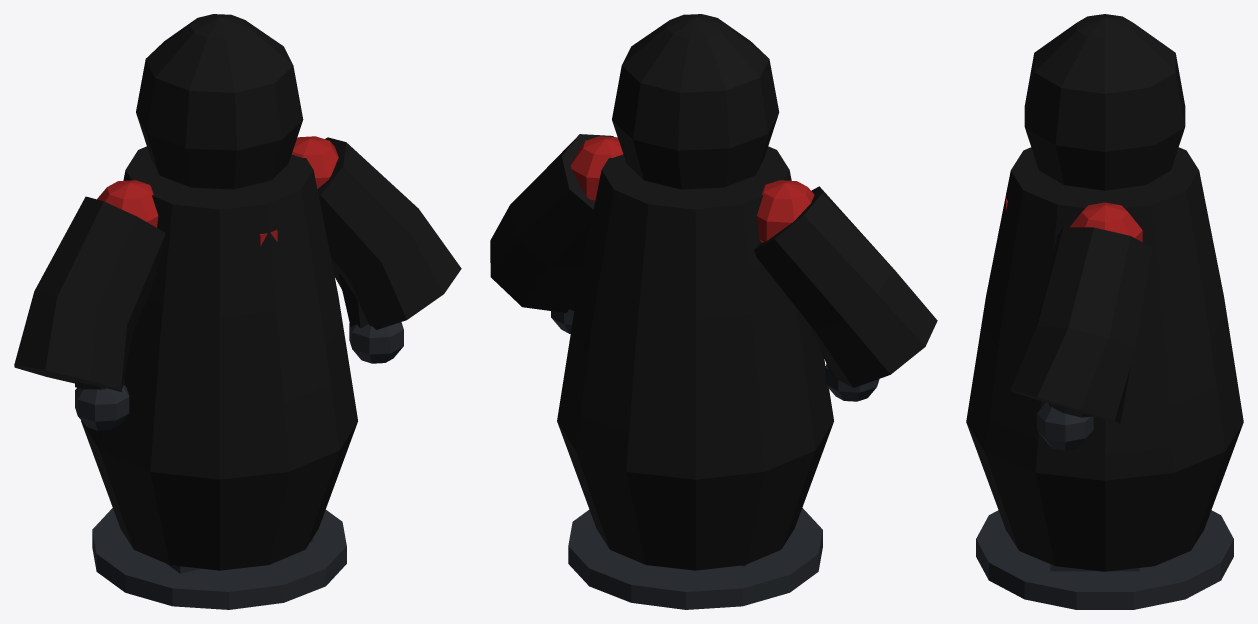
The model's file is sith-lord-robe.glb.
The picture shows the model from 3 angles, left to right: view 1: azimuth 30°, elevation 25°; view 2: azimuth 150°, elevation 25°; view 3: azimuth 270°, elevation 25°; orthographic projection.
Visible parts, largest first — view 1: m; view 2: m; view 3: m.
Boxes of the visible parts, bbox=[...] form: m: bbox=[14, 14, 461, 609]; m: bbox=[490, 14, 937, 609]; m: bbox=[966, 14, 1243, 609].
Size of the model in its own units: 0.4737 by 0.56 by 0.2613.
